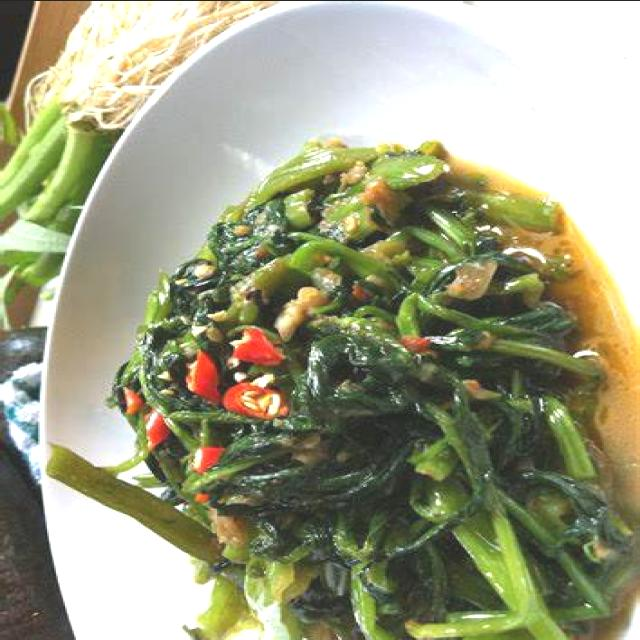tumis kangkung: (108, 130, 640, 640)
